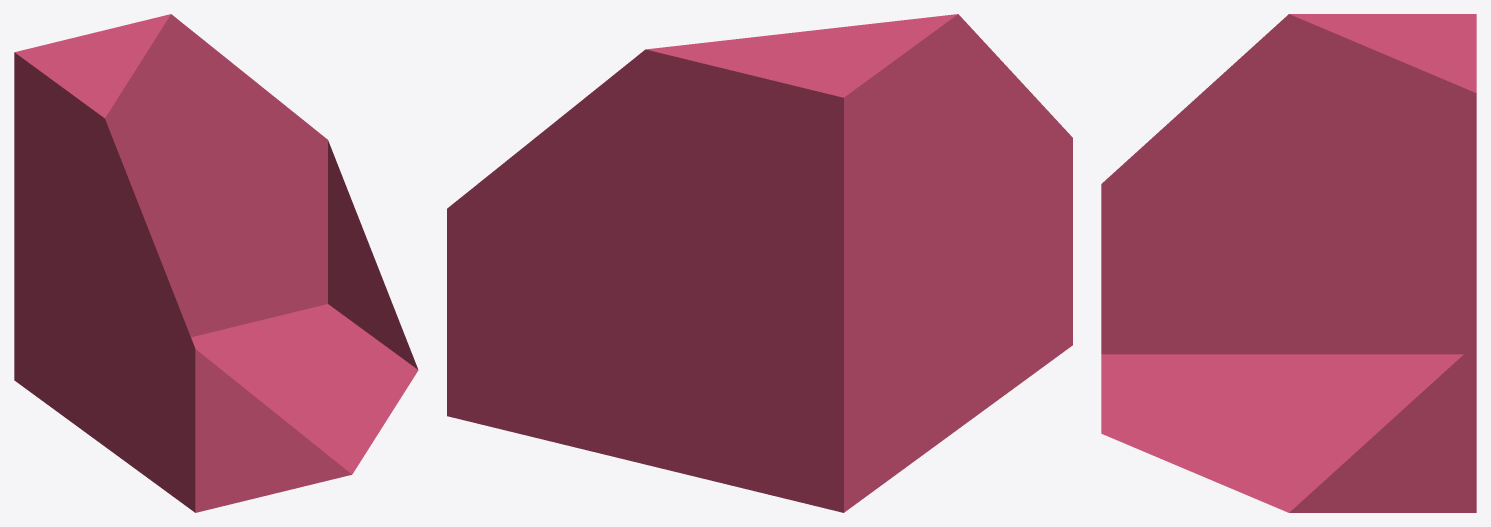
File: r5c7_body_pink.gltf
The picture shows the model from 3 angles, left to right: view 1: azimuth 30°, elevation 25°; view 2: azimuth 150°, elevation 25°; view 3: azimuth 270°, elevation 25°; orthographic projection. The views are drawn at different scales.
Visible parts, largest first — view 1: r5c7_body_pink; view 2: r5c7_body_pink; view 3: r5c7_body_pink.
Boxes of the visible parts, x1=… form: r5c7_body_pink: x1=14, y1=14, x2=418, y2=512; r5c7_body_pink: x1=447, y1=14, x2=1072, y2=512; r5c7_body_pink: x1=1101, y1=14, x2=1476, y2=512.
Bounding box in the file's own units: 2 × 2 × 2.
Materials: 1 (1 with a texture image).
